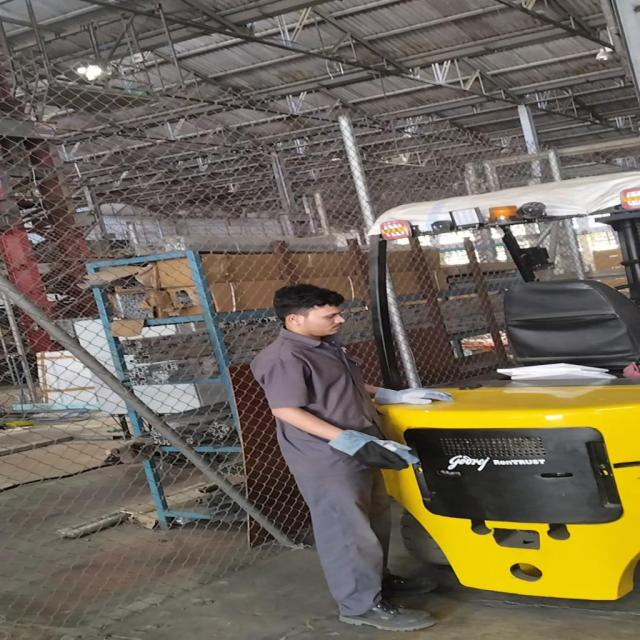Gloves-Detection: (330, 425, 426, 478), (365, 381, 456, 408)
